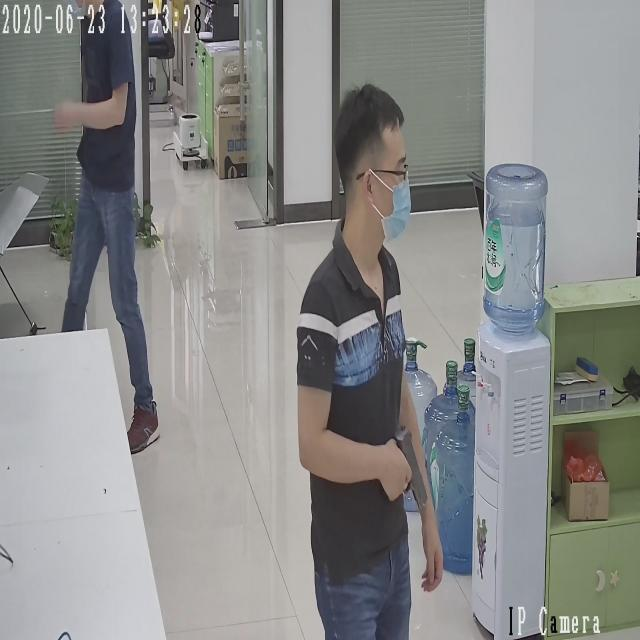gun-knife-thesis - v11 Yolov5 augmented: (381, 420, 431, 512)
